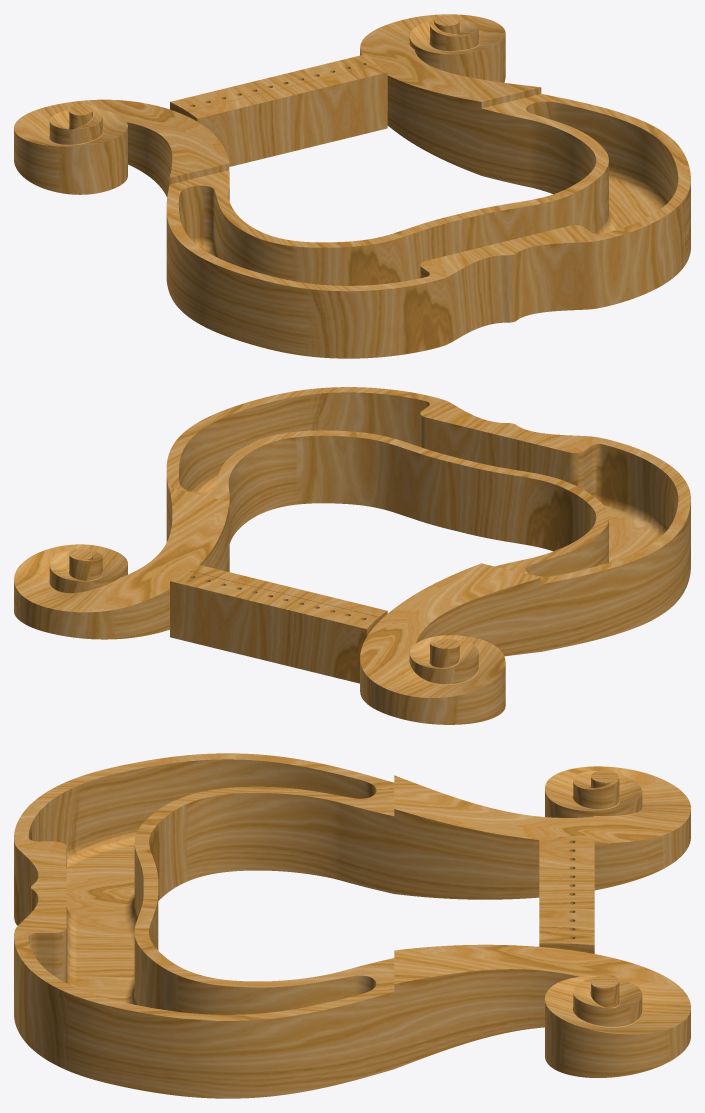
Rendered from Violin-v1.glb.
3 renders of one model, top to bottom at view 1: azimuth 30°, elevation 25°; view 2: azimuth 150°, elevation 25°; view 3: azimuth 270°, elevation 25°, orthographic. The views are drawn at different scales.
Parts seen in each view (by area): view 1: Violin-v2_2026-06-04; view 2: Violin-v2_2026-06-04; view 3: Violin-v2_2026-06-04.
Part boxes in pixels (<box>): Violin-v2_2026-06-04: <box>14,14,690,358</box>; Violin-v2_2026-06-04: <box>14,387,690,724</box>; Violin-v2_2026-06-04: <box>14,753,690,1098</box>.
Size of the model in its own units: 0.4 by 0.0599 by 0.4275.
Materials: 1 (1 with a texture image).
